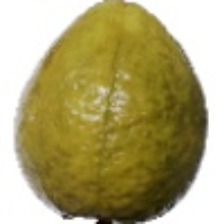guava: (64, 42, 203, 211)
